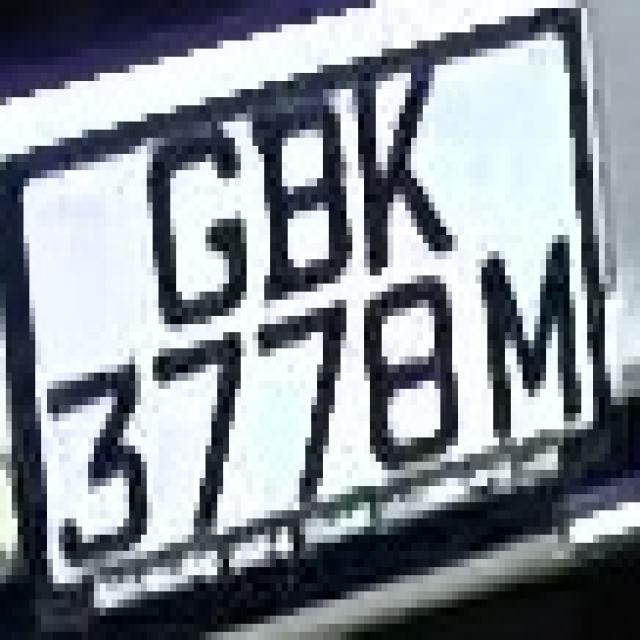3: (23, 324, 158, 616)
7: (141, 300, 270, 583), (246, 276, 346, 575)
8: (335, 243, 464, 494)
B: (241, 57, 358, 316)
G: (124, 81, 258, 348)
K: (347, 41, 452, 292)
M: (458, 203, 593, 486)
